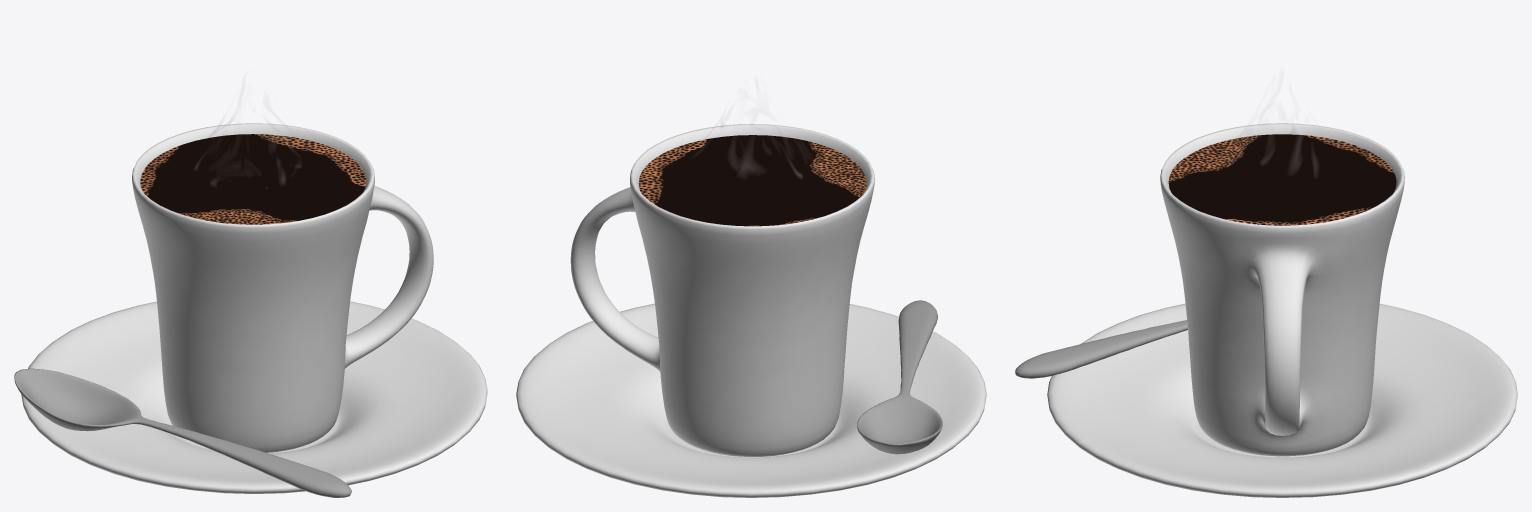
Rendered from americano-transformed.glb.
3 renders of one model, left to right at view 1: azimuth 30°, elevation 25°; view 2: azimuth 150°, elevation 25°; view 3: azimuth 270°, elevation 25°, orthographic.
Parts seen in each view (by area): view 1: Cup_Cup_0, Plate_Plate_0, Coffee_Coffee_0, Teaspoon_Teapoon_0; view 2: Cup_Cup_0, Plate_Plate_0, Coffee_Coffee_0, Teaspoon_Teapoon_0; view 3: Cup_Cup_0, Plate_Plate_0, Coffee_Coffee_0, Teaspoon_Teapoon_0.
Part boxes in pixels (bbox=[...]): Cup_Cup_0: bbox=[132, 123, 433, 452]; Plate_Plate_0: bbox=[21, 301, 487, 493]; Coffee_Coffee_0: bbox=[140, 134, 366, 224]; Teaspoon_Teapoon_0: bbox=[14, 368, 351, 497]; Cup_Cup_0: bbox=[570, 124, 874, 456]; Plate_Plate_0: bbox=[516, 303, 986, 497]; Coffee_Coffee_0: bbox=[638, 135, 866, 226]; Teaspoon_Teapoon_0: bbox=[857, 300, 942, 454]; Cup_Cup_0: bbox=[1160, 123, 1404, 456]; Plate_Plate_0: bbox=[1047, 303, 1517, 497]; Coffee_Coffee_0: bbox=[1168, 134, 1396, 225]; Teaspoon_Teapoon_0: bbox=[1015, 320, 1187, 378].
Size of the model in its own units: 207 by 208 by 221.
5 materials, 5 textured.
